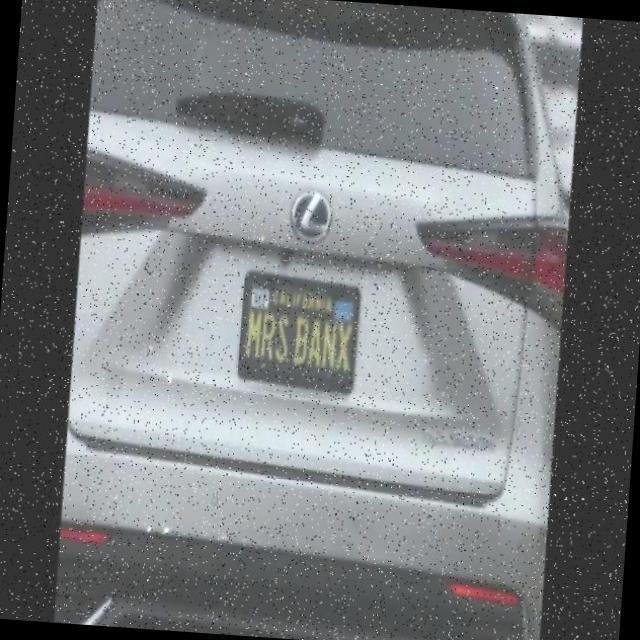license_plate: (238, 273, 362, 392)
